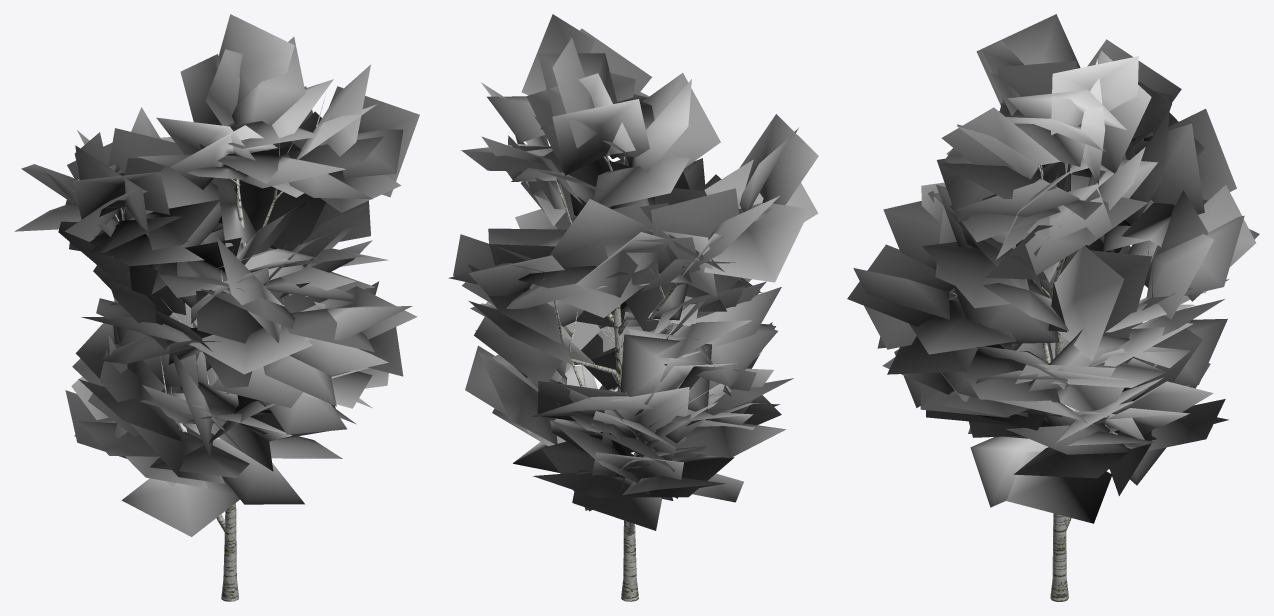
File: flg_tree_01.FBX
3 views of the same model, side by side, from view 1: azimuth 30°, elevation 25°; view 2: azimuth 150°, elevation 25°; view 3: azimuth 270°, elevation 25° (orthographic). The views are drawn at different scales.
Visible parts, largest first — view 1: flg_tree_01_LOD0; view 2: flg_tree_01_LOD0; view 3: flg_tree_01_LOD0.
Boxes of the visible parts, x1=… form: flg_tree_01_LOD0: x1=14, y1=14, x2=419, y2=601; flg_tree_01_LOD0: x1=448, y1=14, x2=818, y2=601; flg_tree_01_LOD0: x1=847, y1=14, x2=1259, y2=601.
Size of what is drawn, in the model's own units: 667 by 664 by 997.
